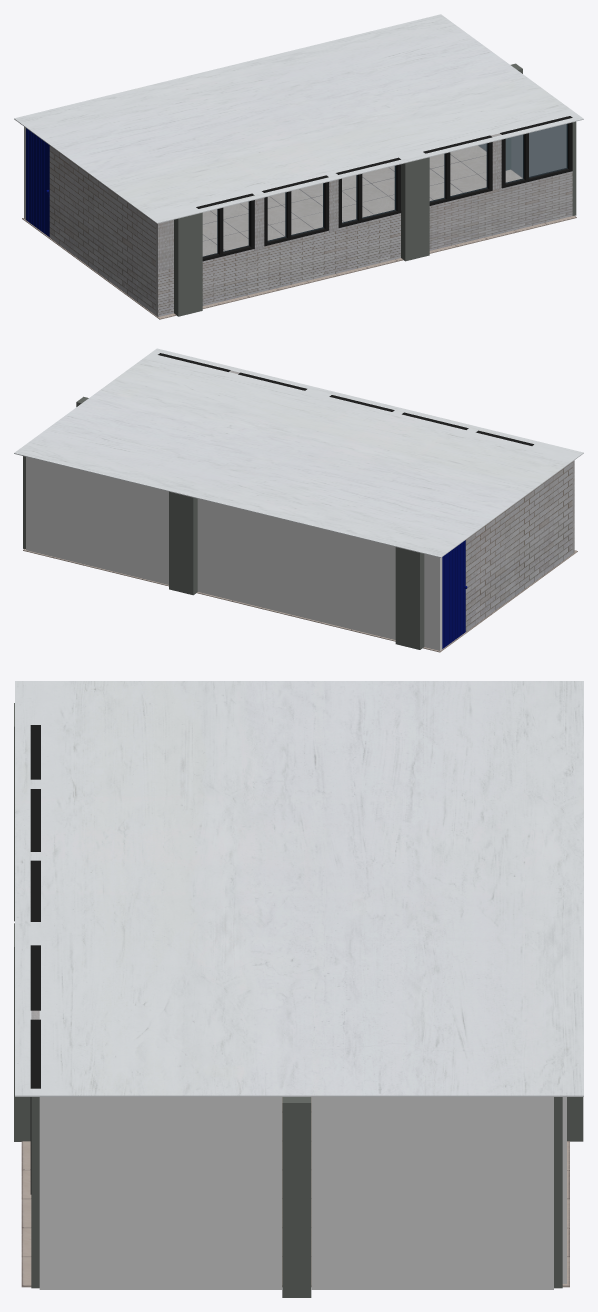
The model's file is Tics.fbx.
The picture shows the model from 3 angles, top to bottom: view 1: azimuth 30°, elevation 25°; view 2: azimuth 150°, elevation 25°; view 3: azimuth 270°, elevation 25°; orthographic projection. The views are drawn at different scales.
Visible parts, largest first — view 1: techo, Cubo_43, Cubo_10, Cubo_9, window, Cubo_8, Cubo_14, v1, v1_1, Door1, v1_3, Cubo_6 (+16 smaller); view 2: techo, Cubo, Cubo_2, Cubo_43, Cubo_47, Cubo_1, Door1, window; view 3: techo, Cubo_6, Cubo_4, Cubo_5, window, Cubo_7, Cubo_3, Cubo_8, Cubo_2.
Part boxes in pixels (x1,y1,x2,y2): techo: (14, 14, 583, 223); Cubo_43: (49, 145, 155, 315); Cubo_10: (156, 213, 400, 316); Cubo_9: (429, 171, 572, 250); window: (196, 116, 572, 261); Cubo_8: (394, 157, 429, 261); Cubo_14: (174, 212, 202, 316); v1: (506, 124, 567, 182); v1_1: (430, 144, 486, 201); Door1: (26, 128, 49, 237); v1_3: (268, 184, 323, 240); Cubo_6: (511, 124, 566, 177); techo: (14, 348, 583, 557); Cubo: (197, 499, 442, 650); Cubo_2: (26, 457, 168, 584); Cubo_43: (465, 462, 572, 631); Cubo_47: (395, 547, 424, 649); Cubo_1: (169, 491, 197, 595); Door1: (442, 540, 467, 648); window: (158, 353, 533, 445); techo: (15, 681, 583, 1096); Cubo_6: (39, 1097, 281, 1289); Cubo_4: (311, 1097, 553, 1289); Cubo_5: (282, 1097, 311, 1297); window: (30, 725, 40, 1194); Cubo_7: (31, 1097, 39, 1288); Cubo_3: (554, 1097, 562, 1288); Cubo_8: (14, 923, 30, 1141); Cubo_2: (562, 1097, 566, 1283).
Size of the model in its own units: 1157 by 253 by 663.
12 materials, 3 textured.
